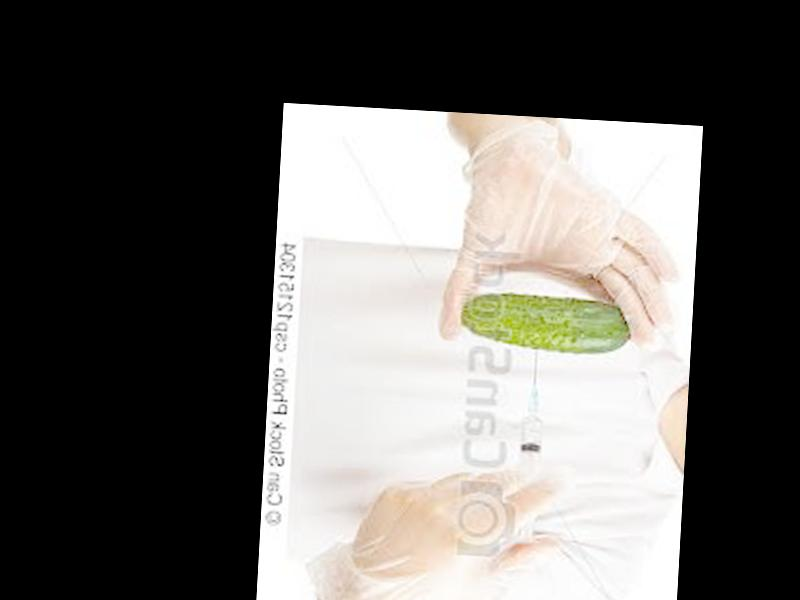Cucumber: (461, 289, 636, 354)
